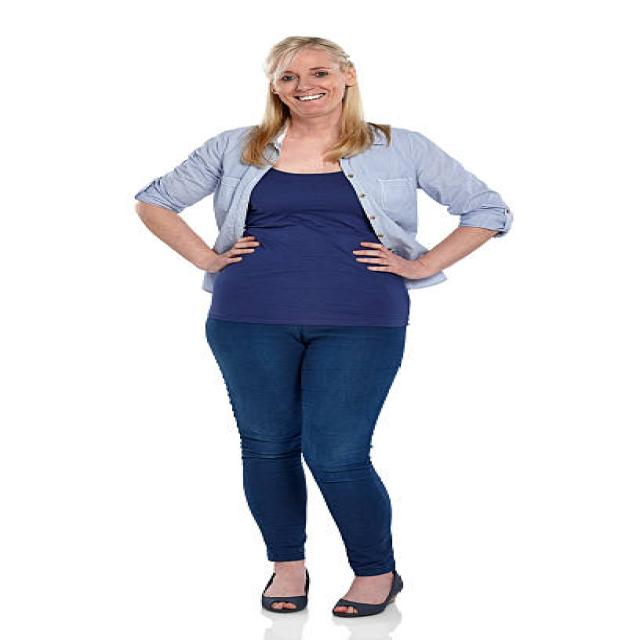Edited images: (119, 21, 530, 629)
